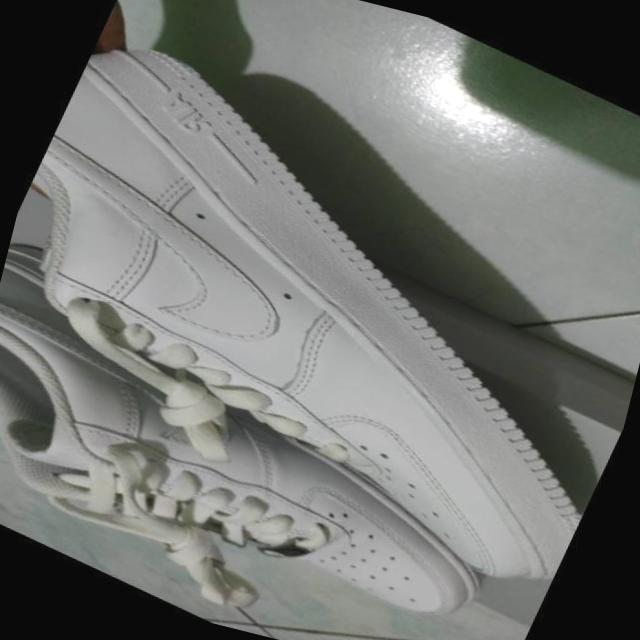nike_original_airforce: (0, 9, 640, 610), (0, 281, 585, 640)
